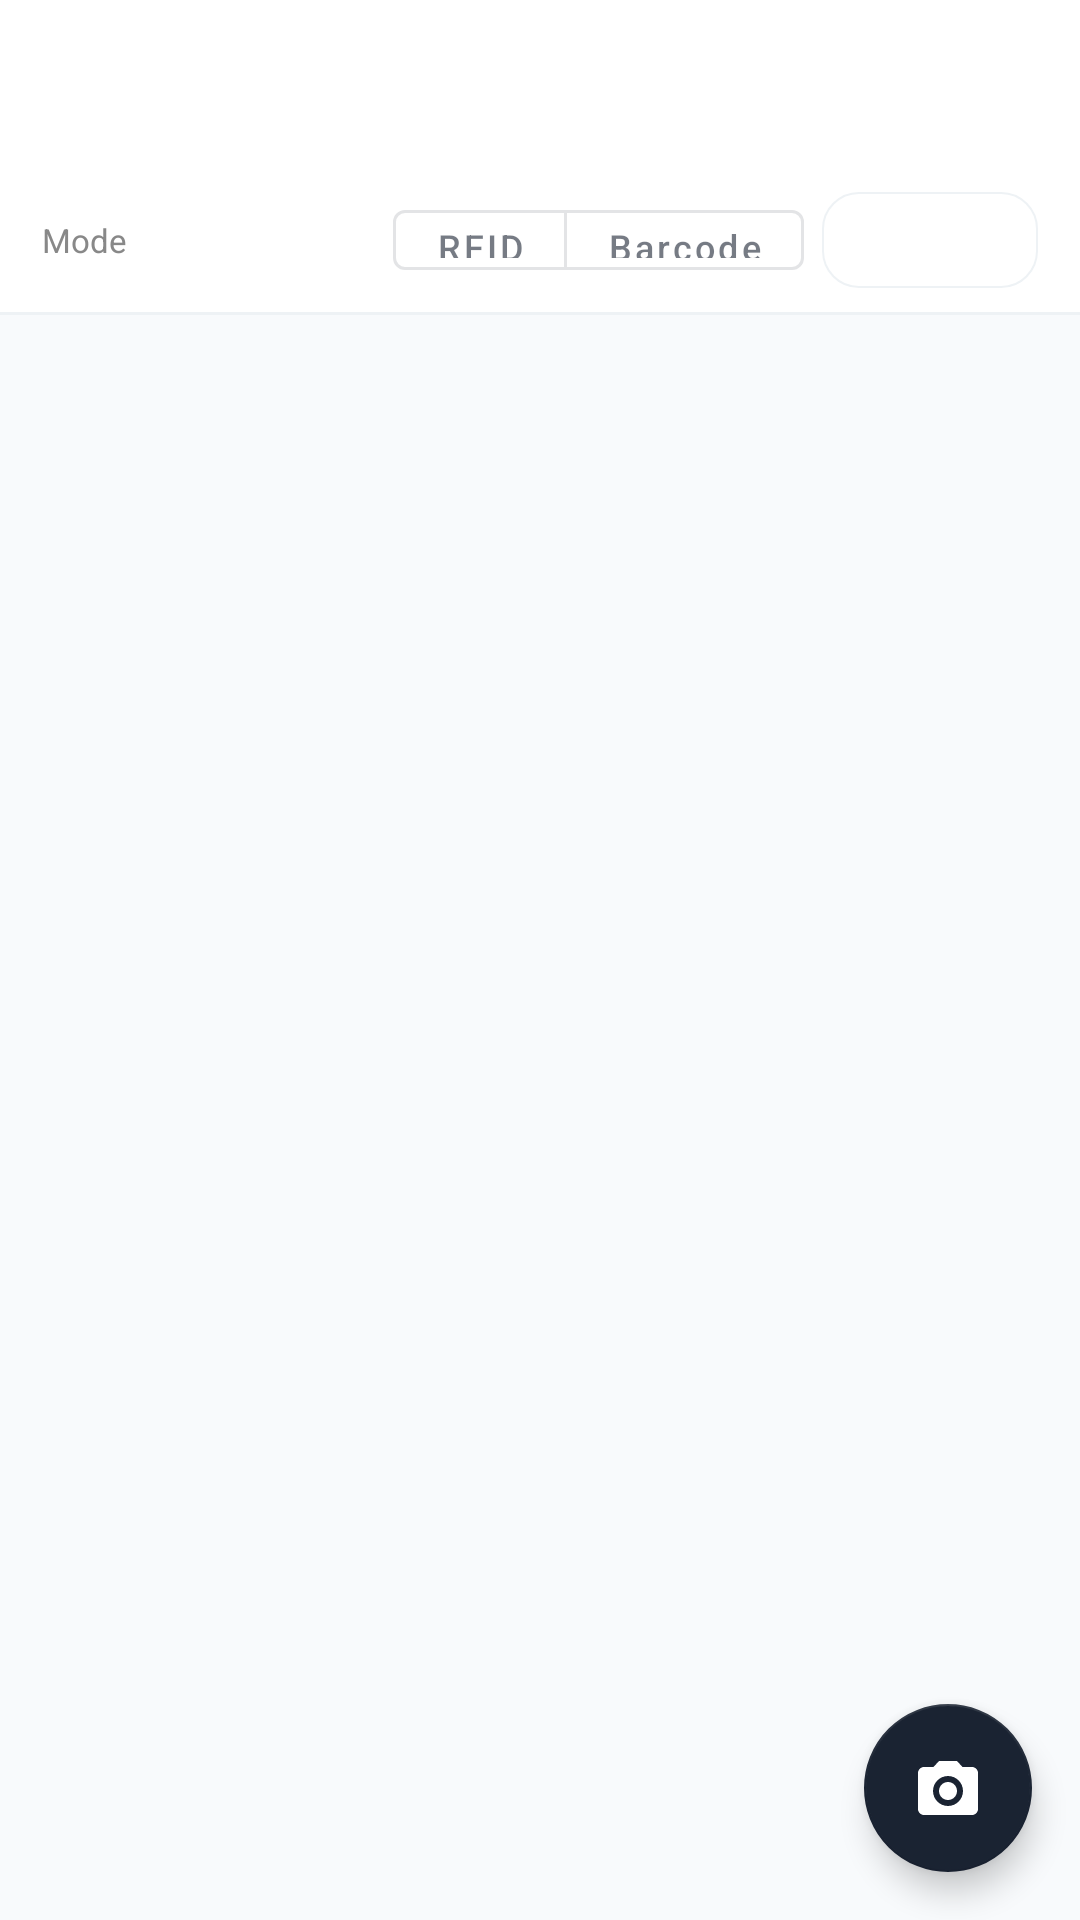

Named icons in this screenshot (1080x1920) and their centers, point (x, y):
Barcode Scan: point (948, 1788)
